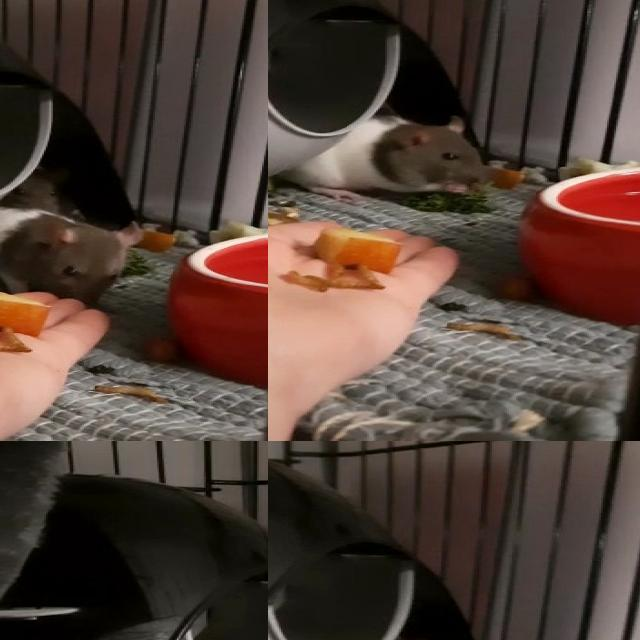rat: (273, 118, 488, 203), (0, 201, 147, 304), (0, 165, 69, 221)
